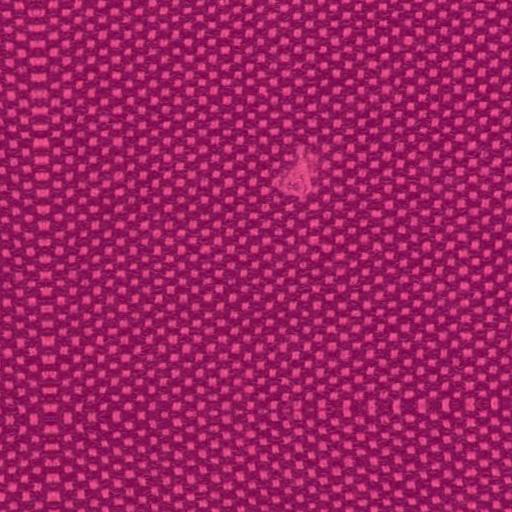knot: (260, 131, 319, 207)
